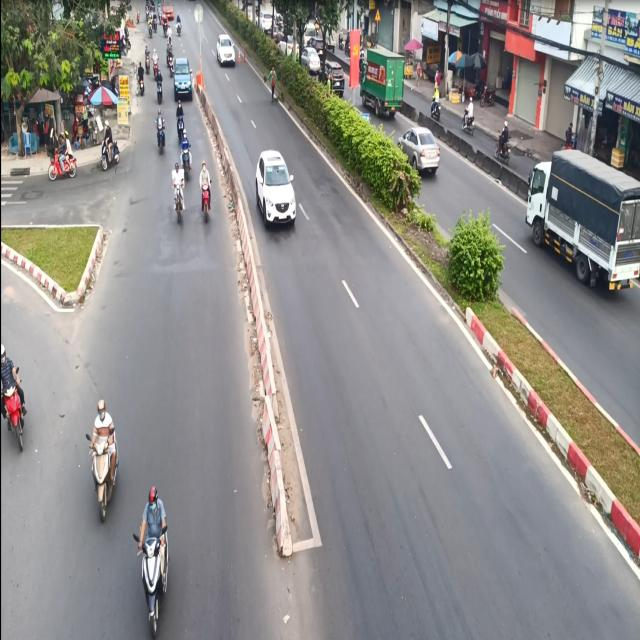car: (255, 145, 297, 233), (171, 51, 194, 102), (214, 34, 238, 78)
motor: (134, 478, 178, 640), (88, 400, 122, 524), (0, 341, 29, 457), (197, 156, 214, 228), (172, 156, 186, 218), (153, 109, 168, 161)
